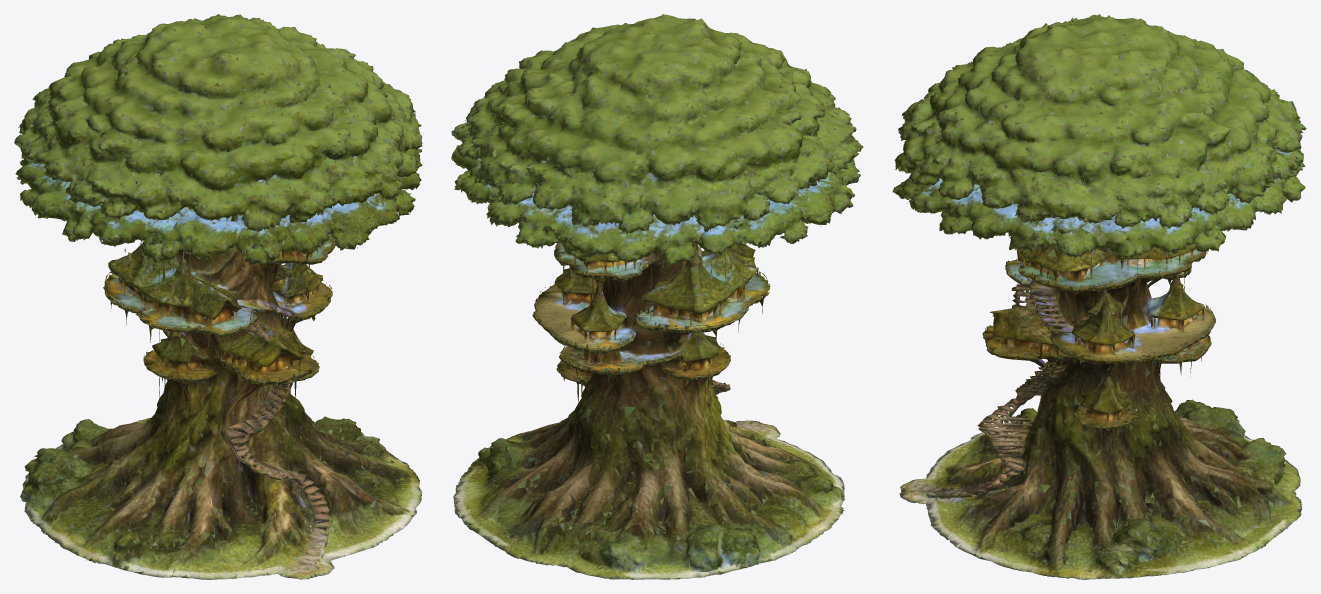
File: Lantern_Tree_Palace.glb
The picture shows the model from 3 angles, left to right: view 1: azimuth 30°, elevation 25°; view 2: azimuth 150°, elevation 25°; view 3: azimuth 270°, elevation 25°; orthographic projection. The views are drawn at different scales.
Parts seen in each view (by area): view 1: Lantern_Tree_Palace; view 2: Lantern_Tree_Palace; view 3: Lantern_Tree_Palace.
Boxes of the visible parts, x1,y1,x2,y2 form: Lantern_Tree_Palace: (14, 14, 422, 579); Lantern_Tree_Palace: (451, 14, 863, 579); Lantern_Tree_Palace: (892, 14, 1306, 579).
Bounding box in the file's own units: 1.54 × 1.89 × 1.54.
Materials: 1 (1 with a texture image).
